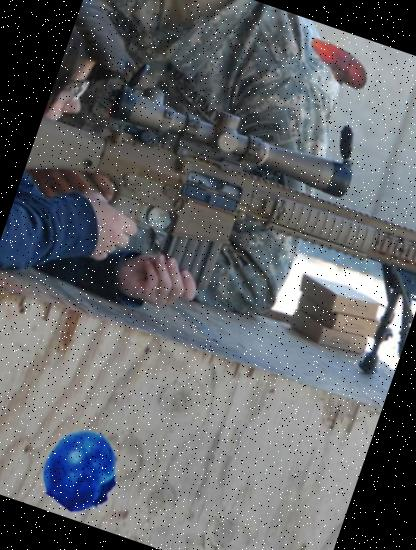Banana: (292, 21, 382, 110)
Huckleberry: (33, 420, 134, 522)
